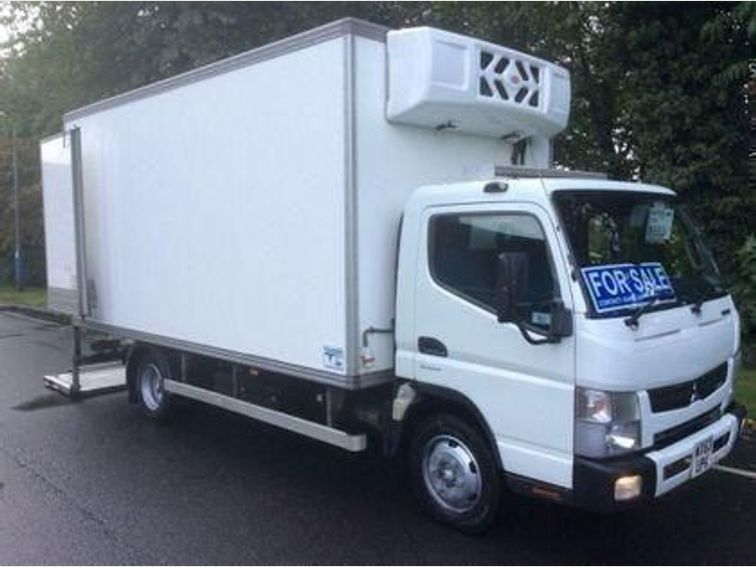Semi: (37, 16, 738, 529)
